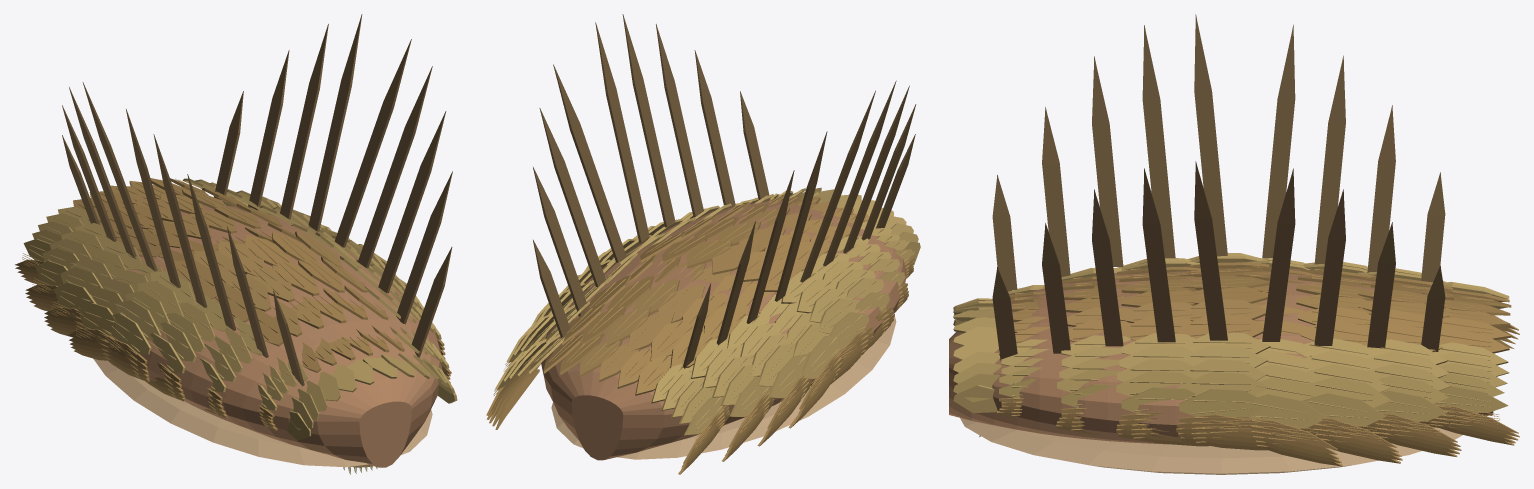
File: wiwaxia.glb
3 views of the same model, side by side, from view 1: azimuth 30°, elevation 25°; view 2: azimuth 150°, elevation 25°; view 3: azimuth 270°, elevation 25° (orthographic). The views are drawn at different scales.
Visible parts, largest first — view 1: adult_unequal_flattened_spine_ranks, complete_soft_body, eight_trunk_rows_dorsal, eight_trunk_rows_upper, continuous_naked_ventral_creeping_foot, eight_trunk_rows_ventrolateral, eight_trunk_rows_lower, anterior_paired_serial_fan, sparse_longitudinal_ridge_relief, sparse_longitudinal_ridge_relief.001; view 2: adult_unequal_flattened_spine_ranks, eight_trunk_rows_dorsal, eight_trunk_rows_upper, complete_soft_body, eight_trunk_rows_ventrolateral, eight_trunk_rows_lower, continuous_naked_ventral_creeping_foot, sparse_longitudinal_ridge_relief, sparse_longitudinal_ridge_relief.001, anterior_paired_serial_fan; view 3: adult_unequal_flattened_spine_ranks, eight_trunk_rows_upper, eight_trunk_rows_dorsal, eight_trunk_rows_ventrolateral, complete_soft_body, eight_trunk_rows_lower, continuous_naked_ventral_creeping_foot, sparse_longitudinal_ridge_relief, anterior_paired_serial_fan, sparse_longitudinal_ridge_relief.001.
Boxes of the visible parts, bbox=[...] form: adult_unequal_flattened_spine_ranks: bbox=[62, 14, 452, 386]; complete_soft_body: bbox=[111, 204, 442, 467]; eight_trunk_rows_dorsal: bbox=[73, 178, 404, 372]; eight_trunk_rows_upper: bbox=[32, 178, 443, 401]; continuous_naked_ventral_creeping_foot: bbox=[93, 358, 432, 467]; eight_trunk_rows_ventrolateral: bbox=[15, 259, 451, 430]; eight_trunk_rows_lower: bbox=[23, 202, 449, 410]; anterior_paired_serial_fan: bbox=[287, 353, 457, 440]; sparse_longitudinal_ridge_relief: bbox=[22, 178, 401, 426]; sparse_longitudinal_ridge_relief.001: bbox=[29, 188, 443, 407]; adult_unequal_flattened_spine_ranks: bbox=[533, 14, 916, 368]; eight_trunk_rows_dorsal: bbox=[543, 194, 868, 395]; eight_trunk_rows_upper: bbox=[503, 194, 906, 423]; complete_soft_body: bbox=[541, 200, 906, 460]; eight_trunk_rows_ventrolateral: bbox=[486, 257, 914, 474]; eight_trunk_rows_lower: bbox=[495, 235, 912, 435]; continuous_naked_ventral_creeping_foot: bbox=[551, 316, 896, 459]; sparse_longitudinal_ridge_relief: bbox=[493, 196, 909, 448]; sparse_longitudinal_ridge_relief.001: bbox=[510, 195, 908, 429]; anterior_paired_serial_fan: bbox=[770, 187, 920, 265]; adult_unequal_flattened_spine_ranks: bbox=[992, 14, 1445, 360]; eight_trunk_rows_upper: bbox=[999, 253, 1509, 407]; eight_trunk_rows_dorsal: bbox=[1009, 262, 1511, 353]; eight_trunk_rows_ventrolateral: bbox=[997, 315, 1519, 466]; complete_soft_body: bbox=[949, 267, 1493, 444]; eight_trunk_rows_lower: bbox=[999, 304, 1508, 429]; continuous_naked_ventral_creeping_foot: bbox=[960, 418, 1462, 474]; sparse_longitudinal_ridge_relief: bbox=[1011, 262, 1499, 446]; anterior_paired_serial_fan: bbox=[953, 298, 1001, 412]; sparse_longitudinal_ridge_relief.001: bbox=[1012, 259, 1491, 419].
Bounding box in the file's own units: 0.0314 × 0.0338 × 0.0514.
